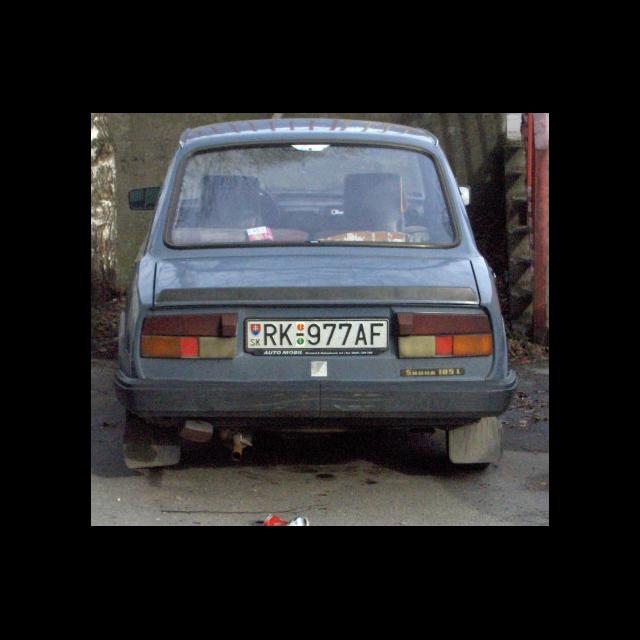Plate: (243, 316, 390, 354)
